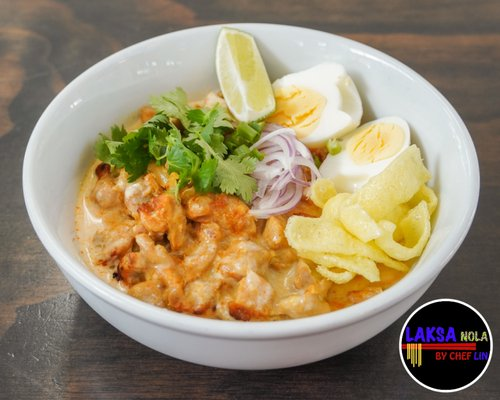sushi: (42, 12, 458, 372)
